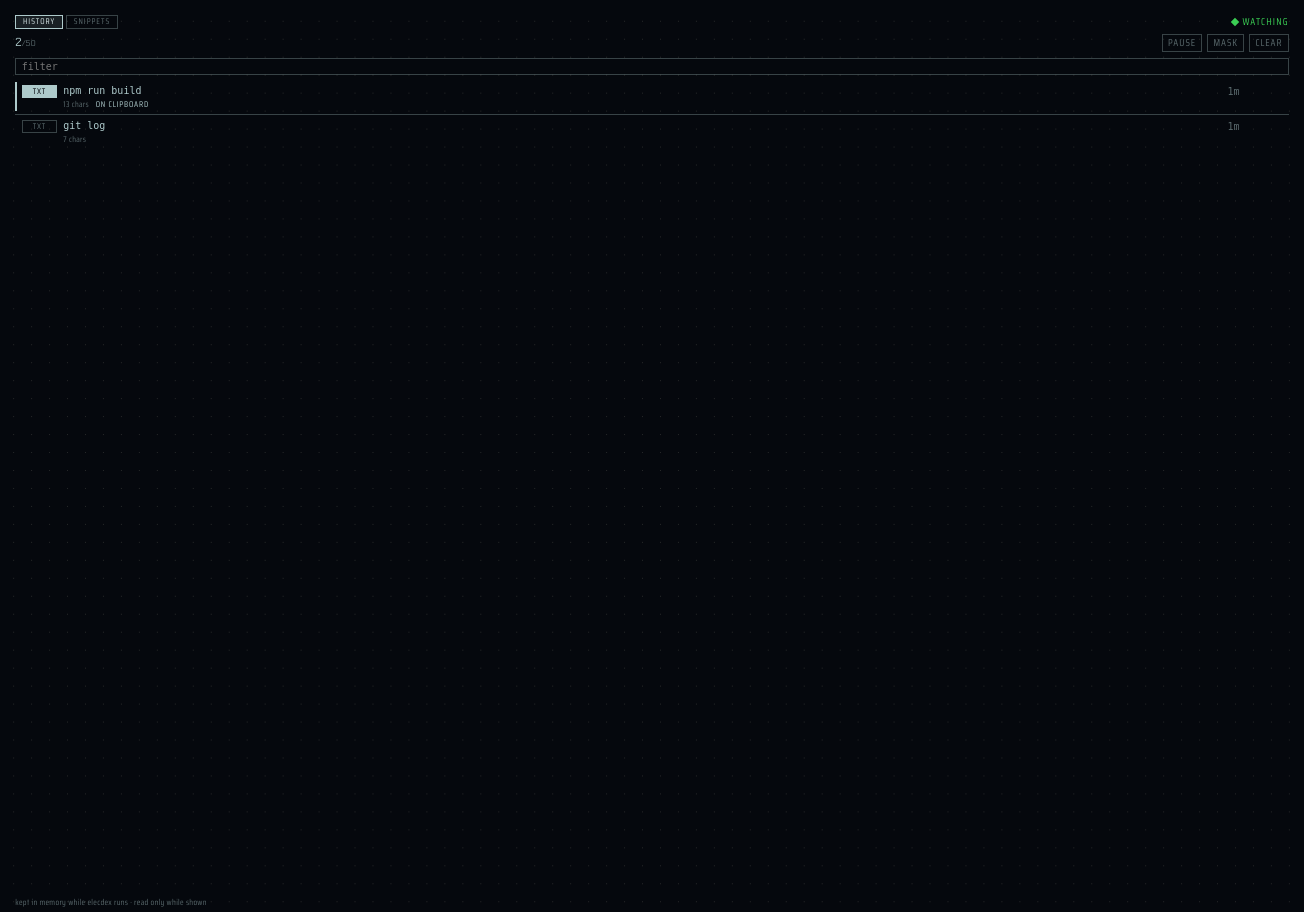
ClipboardWidget › filters on the words typed
The width and height of the screenshot is (1304, 912).
Type "GIT" into the search field with test id "clip-filter" at coordinates (652, 66), box [15, 58, 1289, 74]
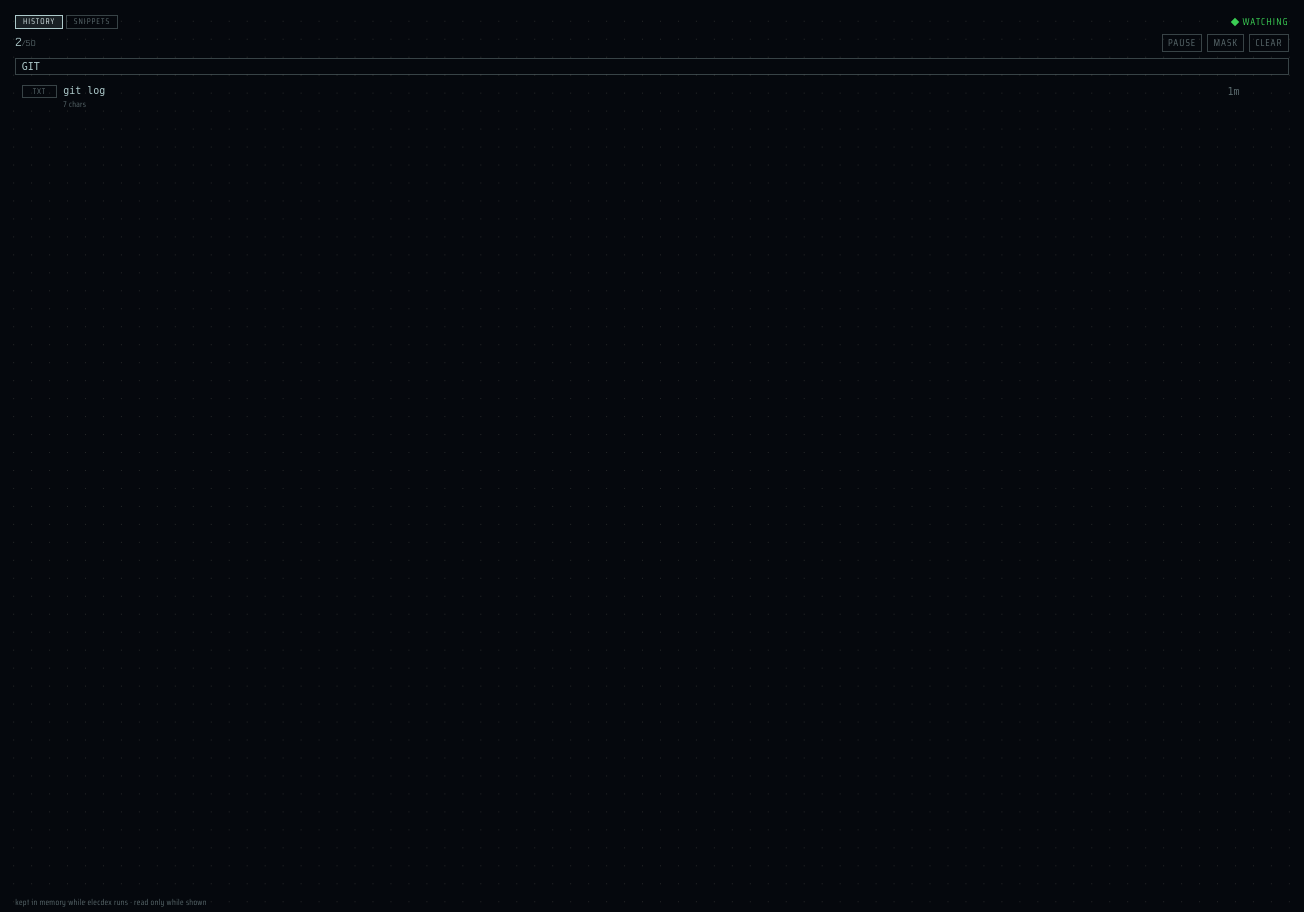
expect the elements with test id "clip-text" read "git log", in this order: met, box [63, 85, 105, 96]
